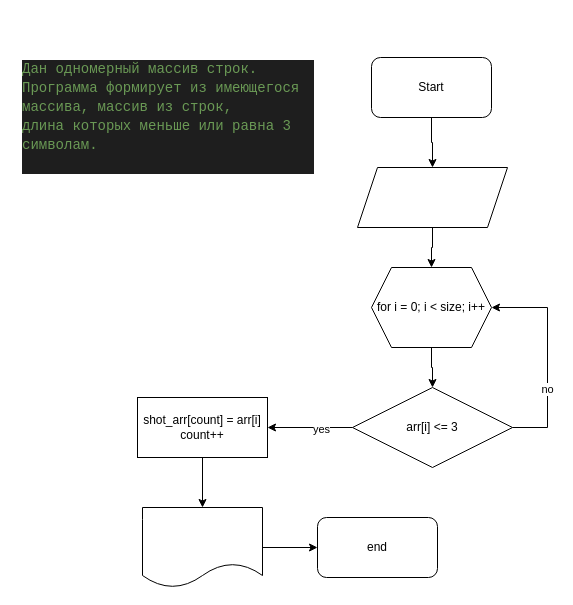
This 573x605 diagram has some shape labels left out. Here are the shapes that lost their labels. From the top down, the centre of each, then its label:
the point at 432,197: arr[], shot_arr[], count = 0 size = arr.Length
the point at 202,547: arr[] shot_arr[]
